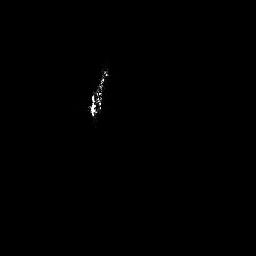ship: (88, 65, 110, 120)
